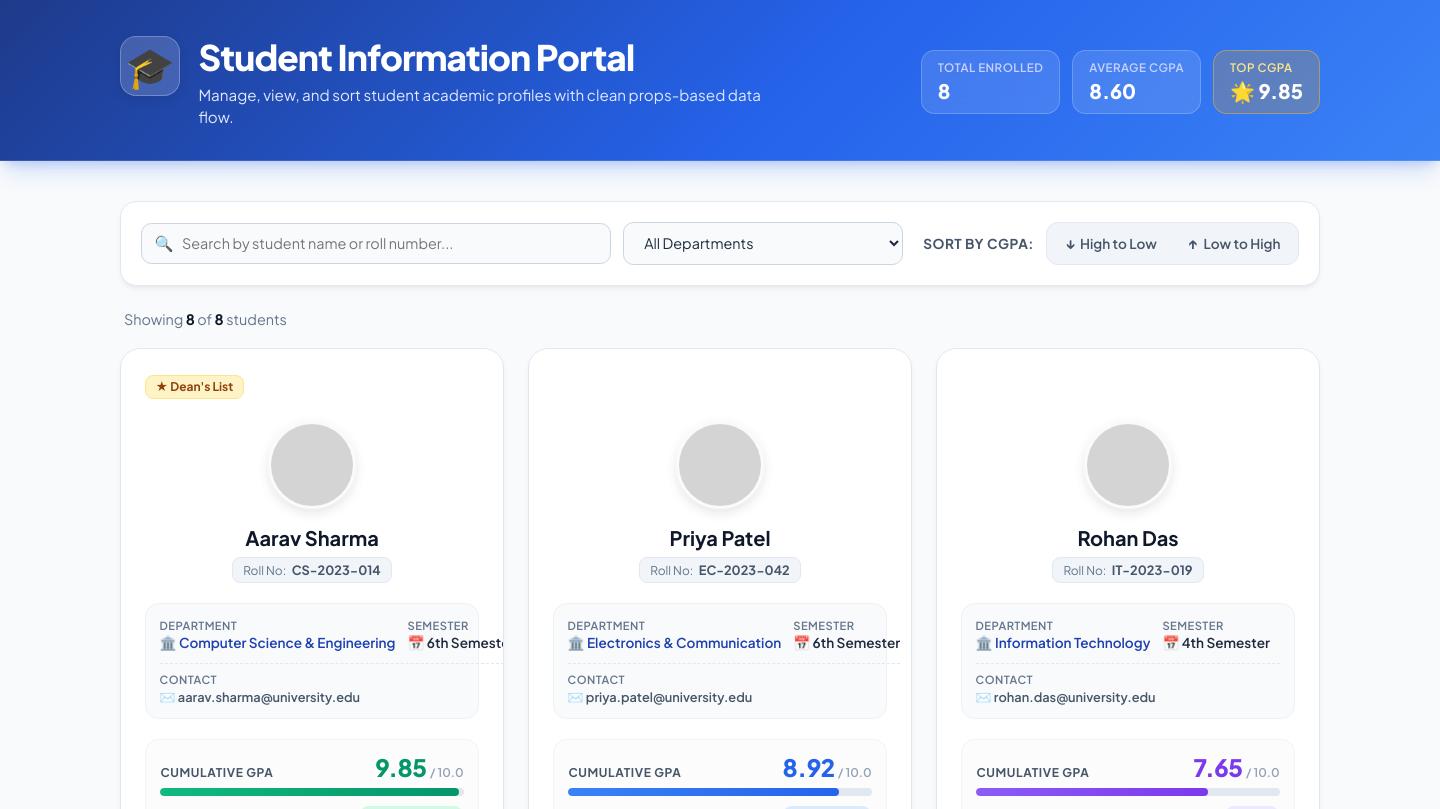
Student Information Portal › filters students by search input
Type "Priya" into the field with placeholder "Search by student name or roll number..." at (376, 243), box x1=141 y1=223 x2=611 y2=264
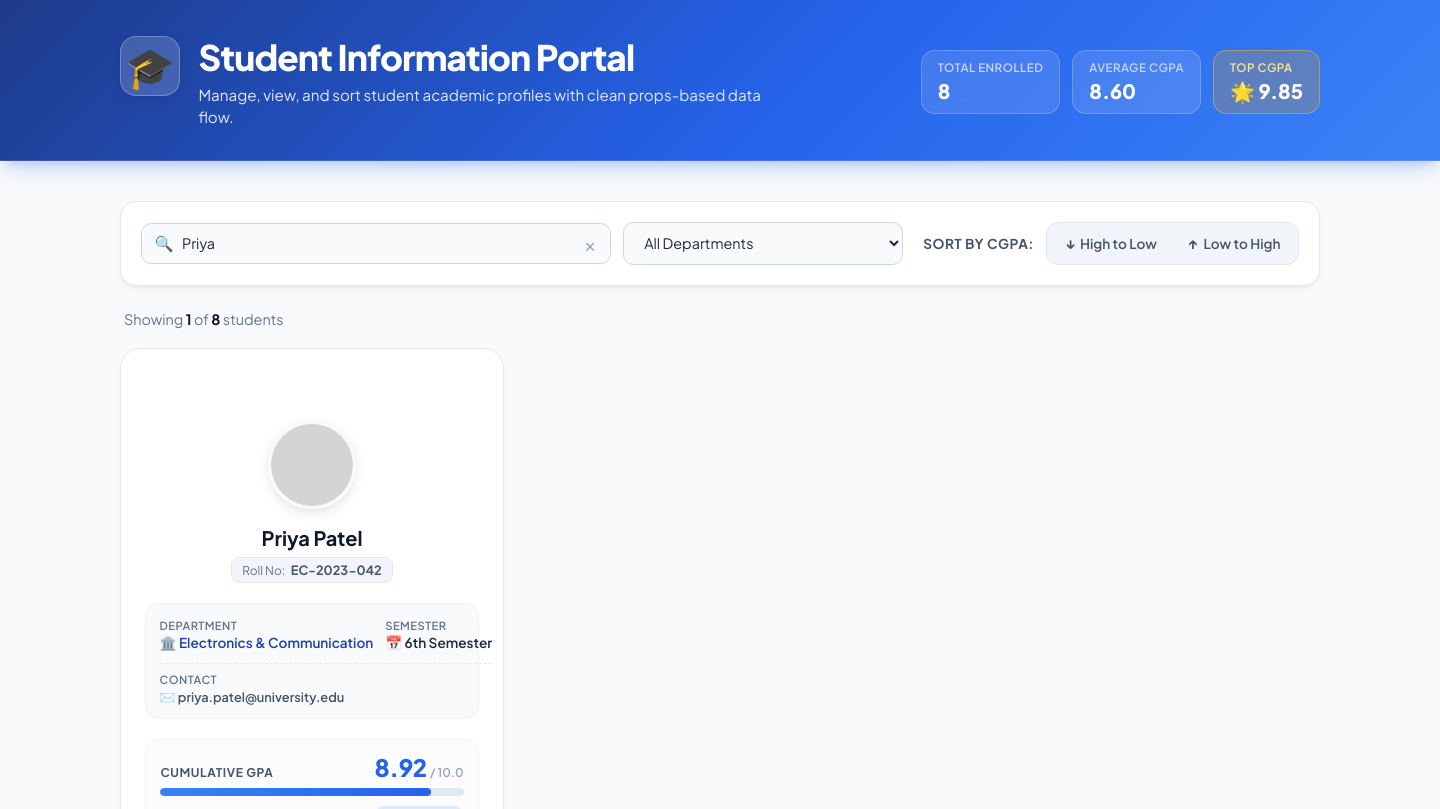
Check: the heading "Priya Patel" is shown, box x1=261 y1=525 x2=362 y2=550
Check: the heading "Aarav Sharma" is gone
